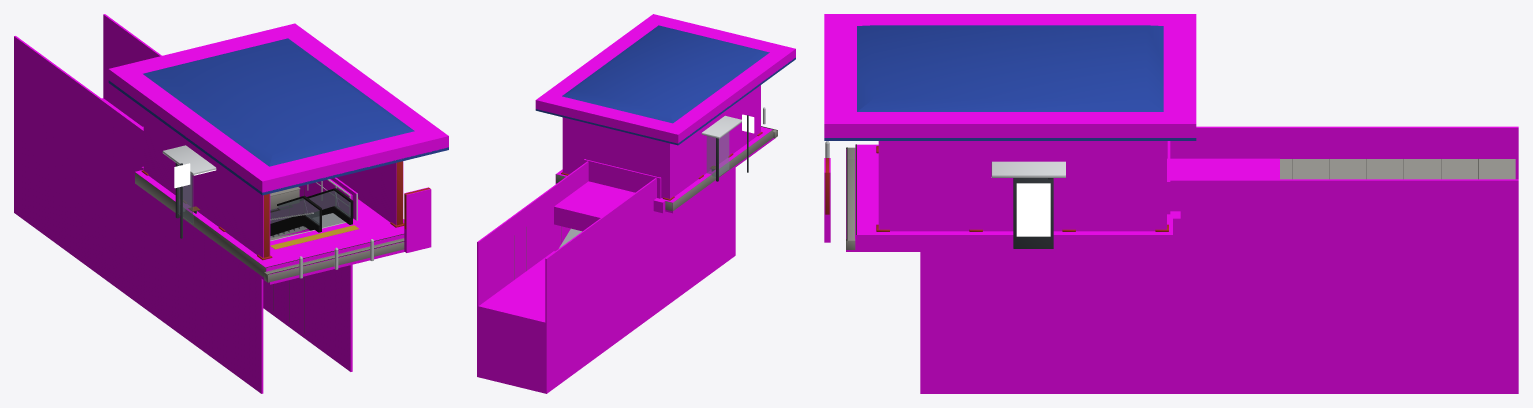
File: street_kit.glb
The picture shows the model from 3 angles, left to right: view 1: azimuth 30°, elevation 25°; view 2: azimuth 150°, elevation 25°; view 3: azimuth 270°, elevation 25°; orthographic projection. The views are drawn at different scales.
Parts seen in each view (by area): view 1: kit_metro_exit_open_col, kit_metro_exit_col, kit_metro_exit, kit_metro_exit_open, kit_shelter, kit_planter; view 2: kit_metro_exit_open_col, kit_metro_exit_col, kit_metro_exit, kit_metro_gates_col, kit_shelter; view 3: kit_metro_exit_col, kit_metro_exit, kit_metro_exit_open_col, kit_shelter, kit_metro_exit_open.
Part boxes in pixels (left/top/right/bottom): kit_metro_exit_open_col: left=14, top=14, right=431, bottom=393; kit_metro_exit_col: left=14, top=14, right=448, bottom=393; kit_metro_exit: left=108, top=38, right=448, bottom=333; kit_metro_exit_open: left=270, top=179, right=430, bottom=278; kit_shelter: left=162, top=145, right=216, bottom=238; kit_planter: left=270, top=187, right=300, bottom=209; kit_metro_exit_open_col: left=477, top=159, right=735, bottom=393; kit_metro_exit_col: left=477, top=14, right=795, bottom=393; kit_metro_exit: left=514, top=25, right=795, bottom=279; kit_metro_gates_col: left=478, top=311, right=545, bottom=393; kit_shelter: left=701, top=114, right=754, bottom=181; kit_metro_exit_col: left=824, top=14, right=1518, bottom=393; kit_metro_exit: left=824, top=25, right=1515, bottom=249; kit_metro_exit_open_col: left=824, top=127, right=1518, bottom=242; kit_shelter: left=991, top=161, right=1065, bottom=248; kit_metro_exit_open: left=825, top=141, right=856, bottom=229.
Bounding box in the file's own units: 9.15 × 11.05 × 22.4.
